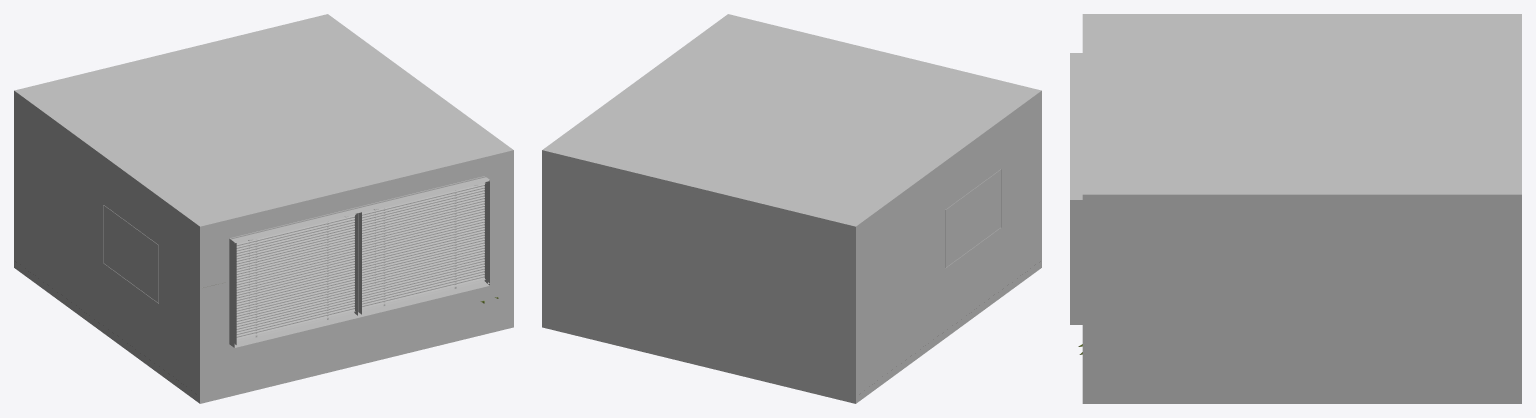
Rendered from GM_Office.fbx.
3 renders of one model, left to right at view 1: azimuth 30°, elevation 25°; view 2: azimuth 150°, elevation 25°; view 3: azimuth 270°, elevation 25°, orthographic. The views are drawn at different scales.
Visible parts, largest first — view 1: headusOBJexport, headusOBJexport1; view 2: headusOBJexport; view 3: headusOBJexport.
Part boxes in pixels (x1,y1,x2,y2): headusOBJexport: [14, 14, 513, 403]; headusOBJexport1: [230, 176, 489, 345]; headusOBJexport: [542, 14, 1041, 403]; headusOBJexport: [1070, 14, 1521, 403].
Bounding box in the file's own units: 5.01 × 2.71 × 5.28.
